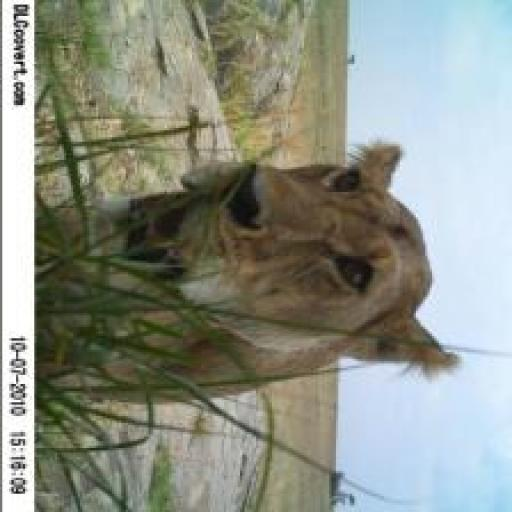lion: (36, 142, 478, 409)
